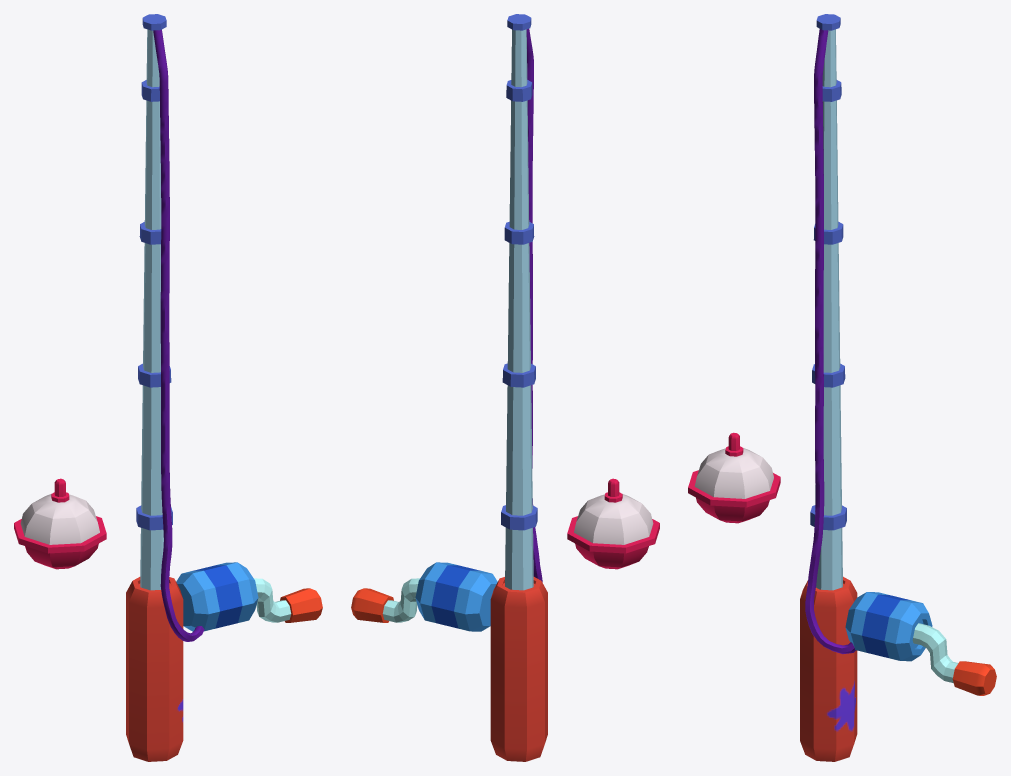
File: FishingRodModel_Fish_06.fbx
3 views of the same model, side by side, from view 1: azimuth 30°, elevation 25°; view 2: azimuth 150°, elevation 25°; view 3: azimuth 330°, elevation 25° (orthographic).
Parts seen in each view (by area): view 1: FishingRod_Body, FishingRod_Line, FishingRod_Bobber, FishingRod_Handle_Body, FishingRod_Handle; view 2: FishingRod_Body, FishingRod_Bobber, FishingRod_Handle_Body, FishingRod_Handle, FishingRod_Line; view 3: FishingRod_Body, FishingRod_Line, FishingRod_Bobber, FishingRod_Handle_Body, FishingRod_Handle.
Boxes of the visible parts, bbox=[...] form: FishingRod_Body: bbox=[126, 14, 183, 761]; FishingRod_Line: bbox=[153, 29, 204, 641]; FishingRod_Bobber: bbox=[14, 478, 106, 569]; FishingRod_Handle_Body: bbox=[176, 562, 258, 631]; FishingRod_Handle: bbox=[254, 578, 322, 622]; FishingRod_Body: bbox=[490, 14, 547, 761]; FishingRod_Bobber: bbox=[567, 478, 659, 569]; FishingRod_Handle_Body: bbox=[415, 562, 497, 631]; FishingRod_Handle: bbox=[351, 578, 419, 622]; FishingRod_Line: bbox=[526, 28, 542, 582]; FishingRod_Body: bbox=[800, 14, 857, 761]; FishingRod_Line: bbox=[805, 29, 855, 654]; FishingRod_Bobber: bbox=[688, 432, 780, 523]; FishingRod_Handle_Body: bbox=[845, 592, 932, 661]; FishingRod_Handle: bbox=[912, 623, 996, 695].
Bounding box in the file's own units: 73.4 × 173 × 20.5.
